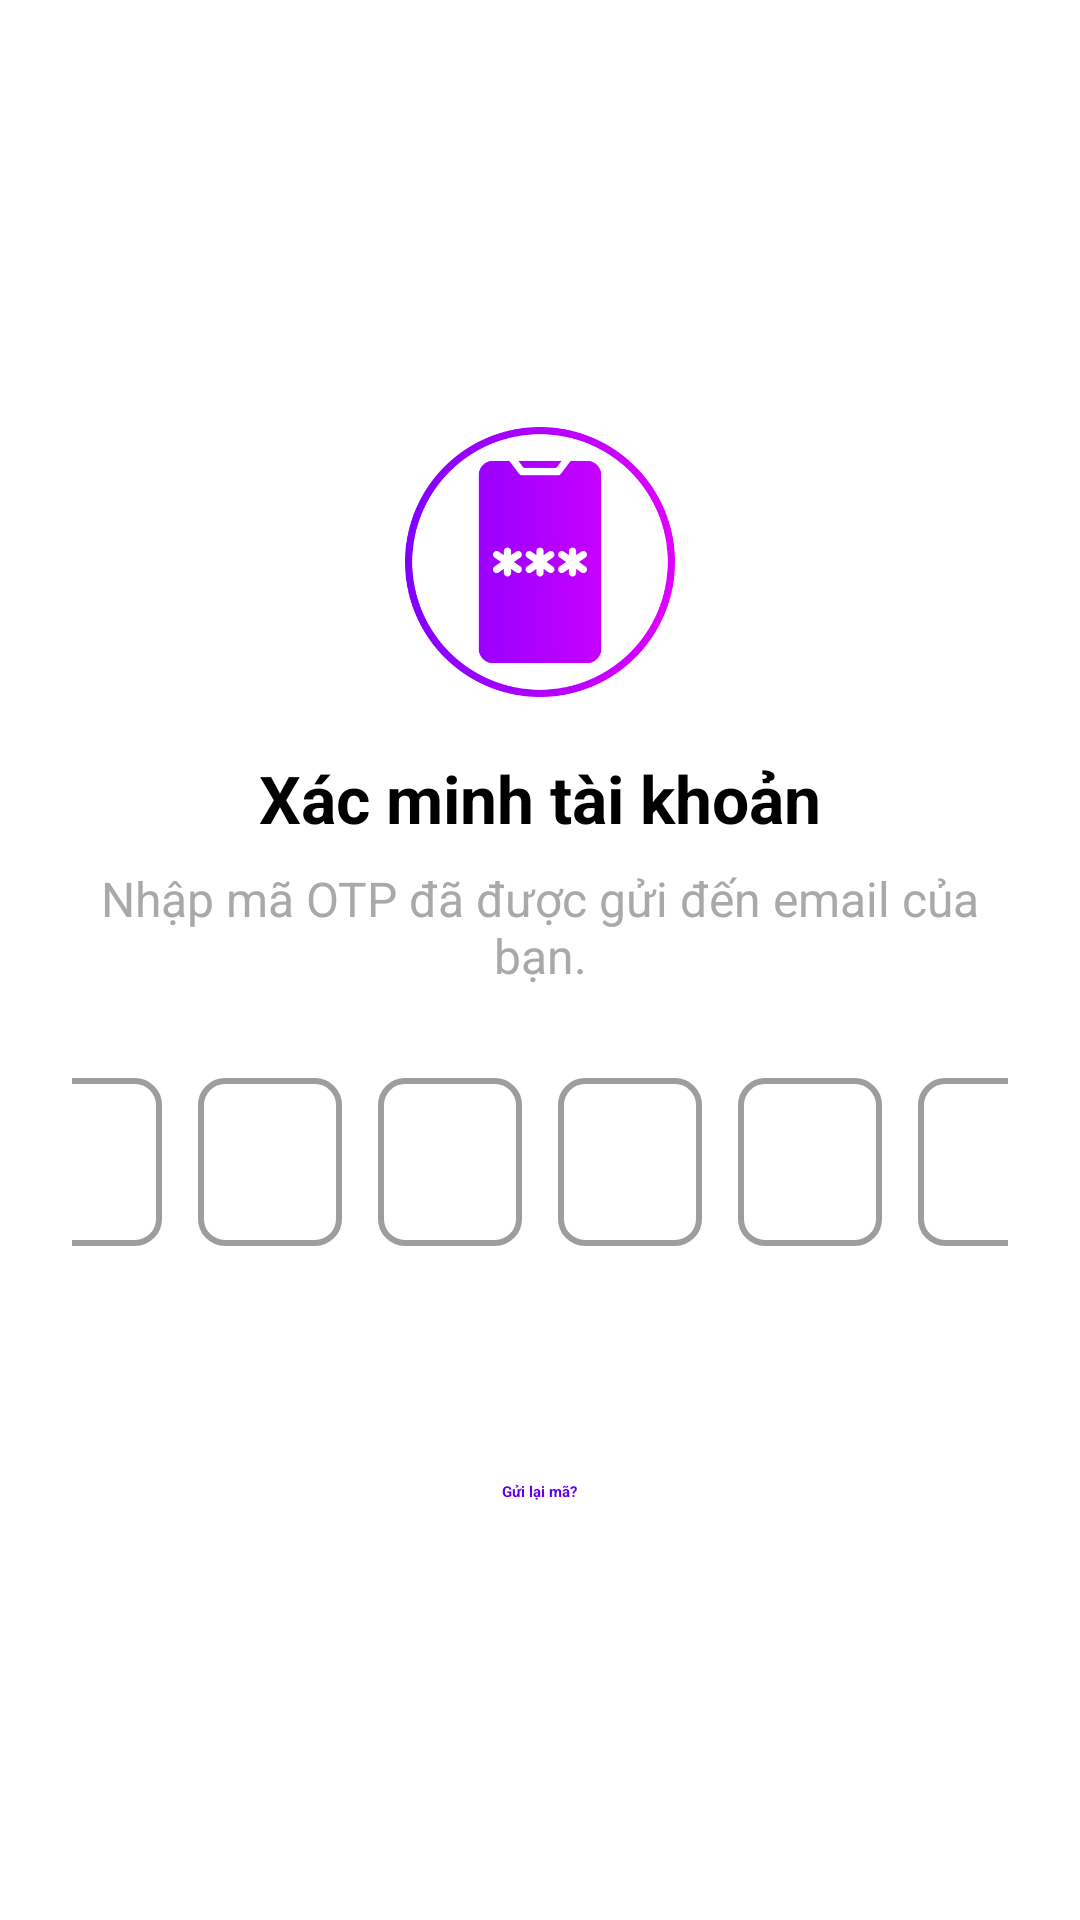

Icon bounding boxes for this 1080*1920 phone screenshot, format (x1, y1, x2, y2):
OTP Illustration: (405, 427, 675, 697)
